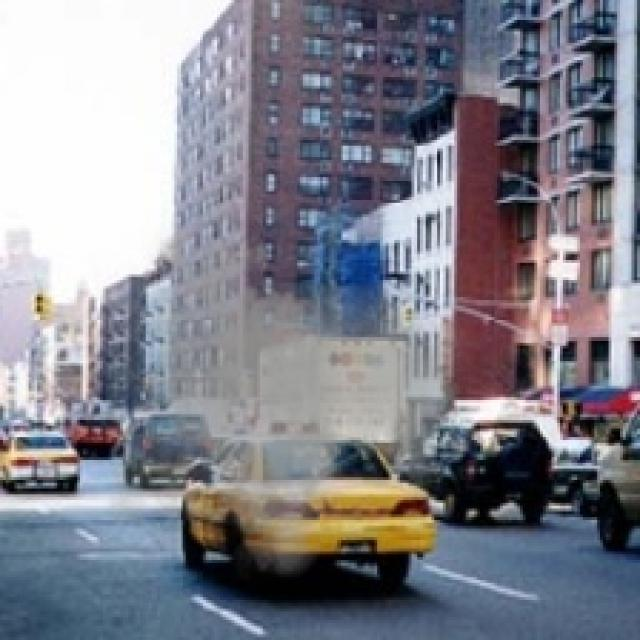Smoke: (108, 217, 463, 592)
